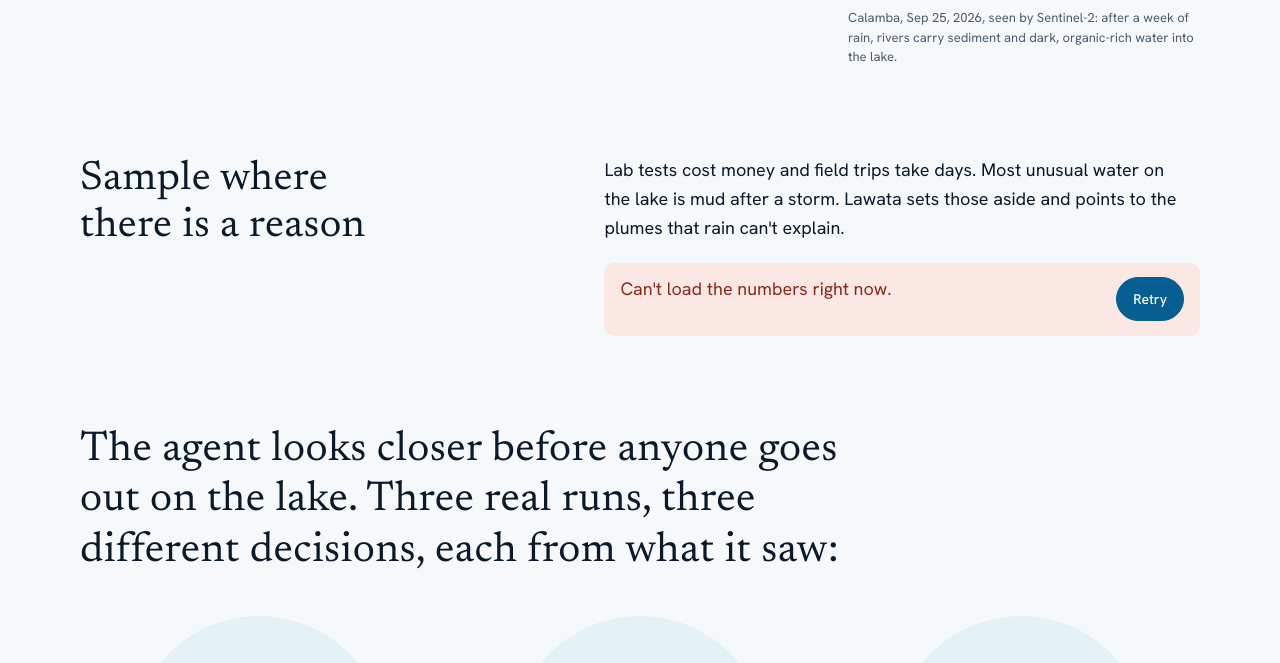
Test: home › keeps blocks independent: a failing block shows retry while the others render
The image size is (1280, 663).
(page scrolled)
Click the button "Retry".
click(1150, 299)  # box [1116, 277, 1184, 321]
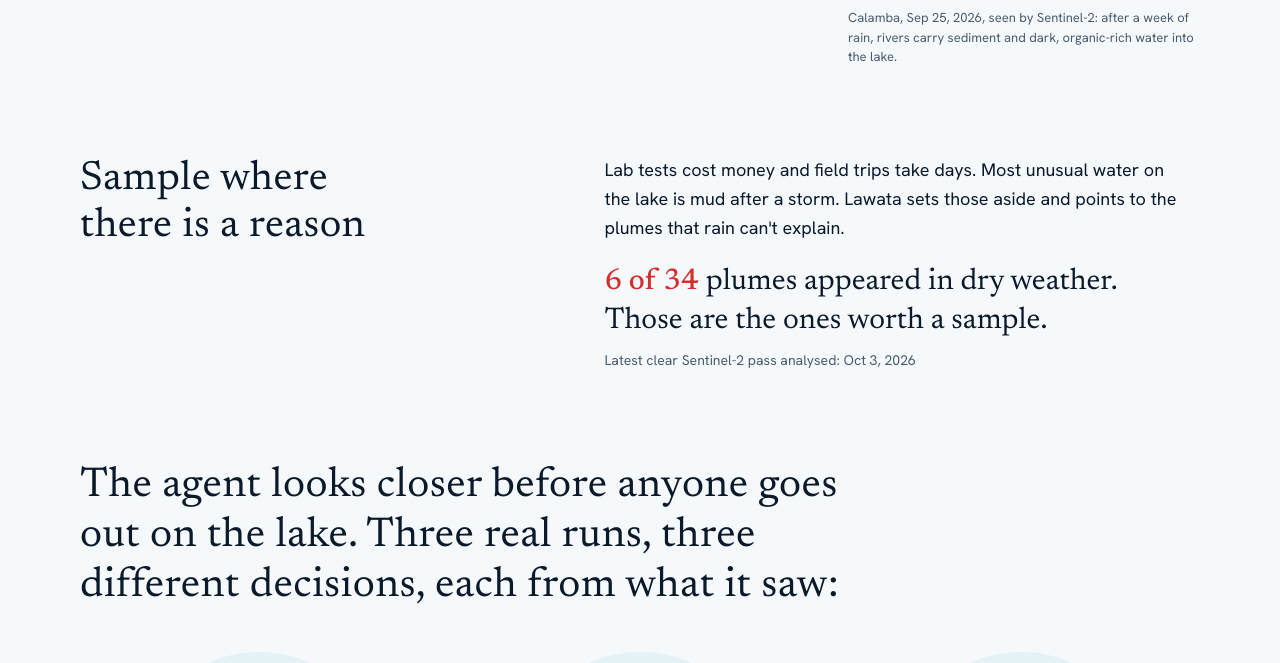
Expected: the text "plumes appeared in dry weather" is shown, [604, 267, 1117, 336]
